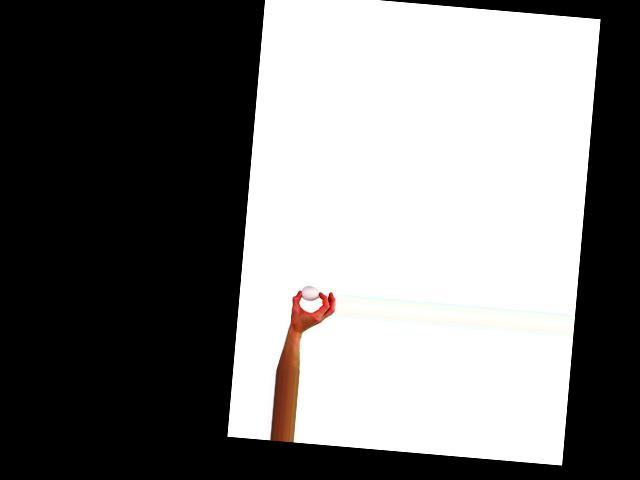egg: (300, 285, 319, 302)
